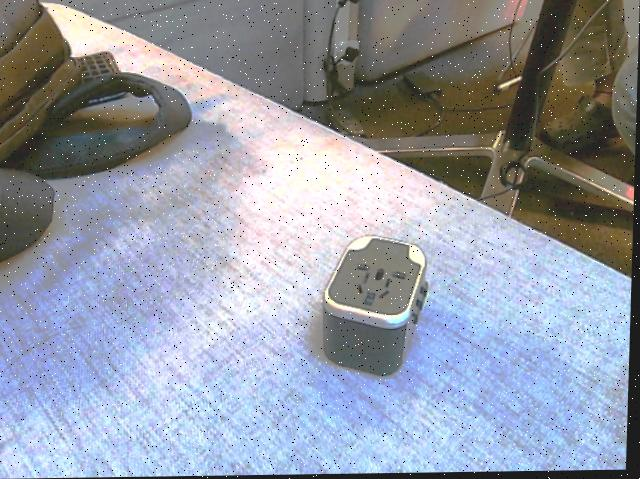adapter: (321, 235, 431, 378)
